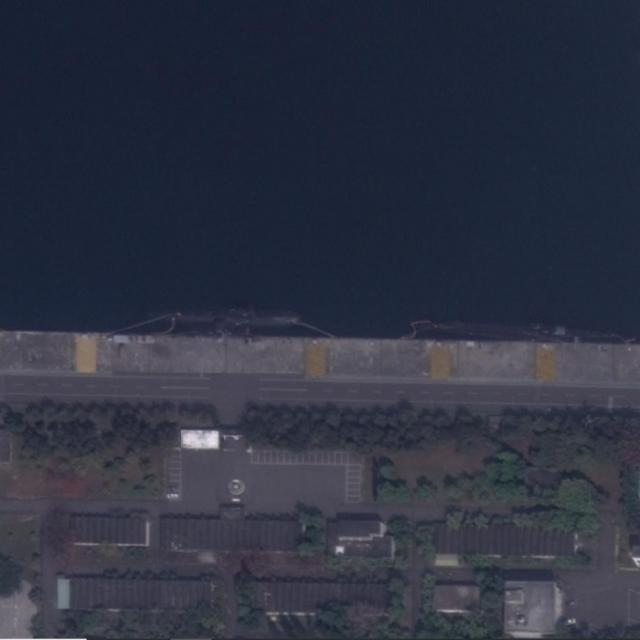Submarine: (411, 313, 619, 343), (155, 309, 301, 326)
